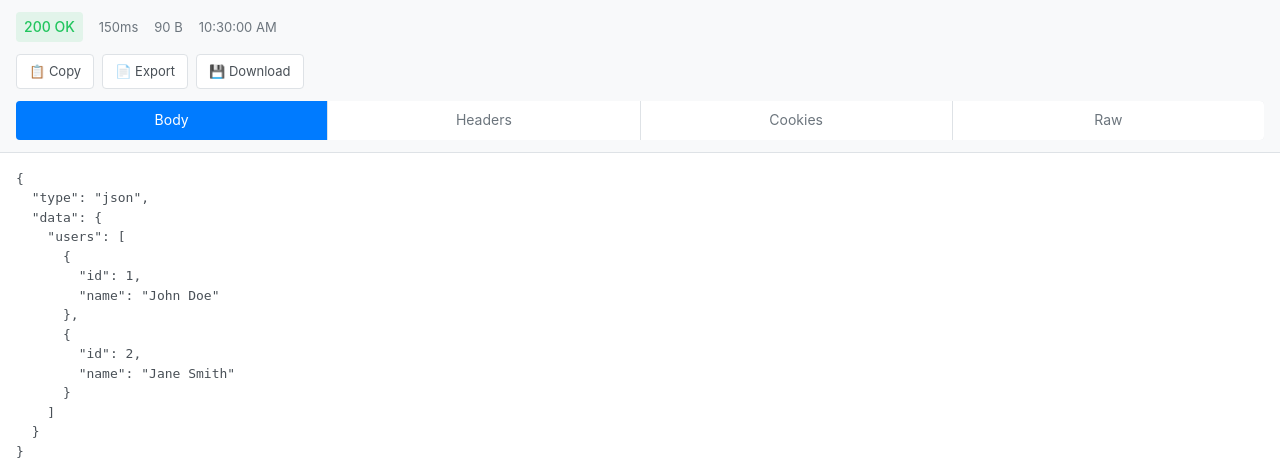
Test: ResponseView › should switch to cookies tab when clicked
Click the button "Cookies" at (796, 120), box [640,101,952,140]
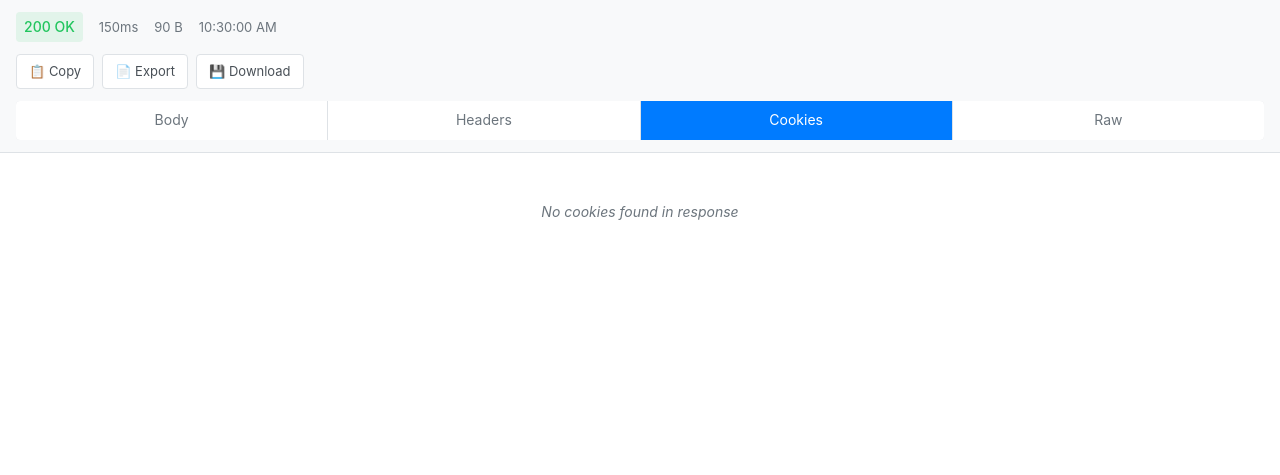
Result: the text "No cookies found in response" is shown at [541,203,739,220]
